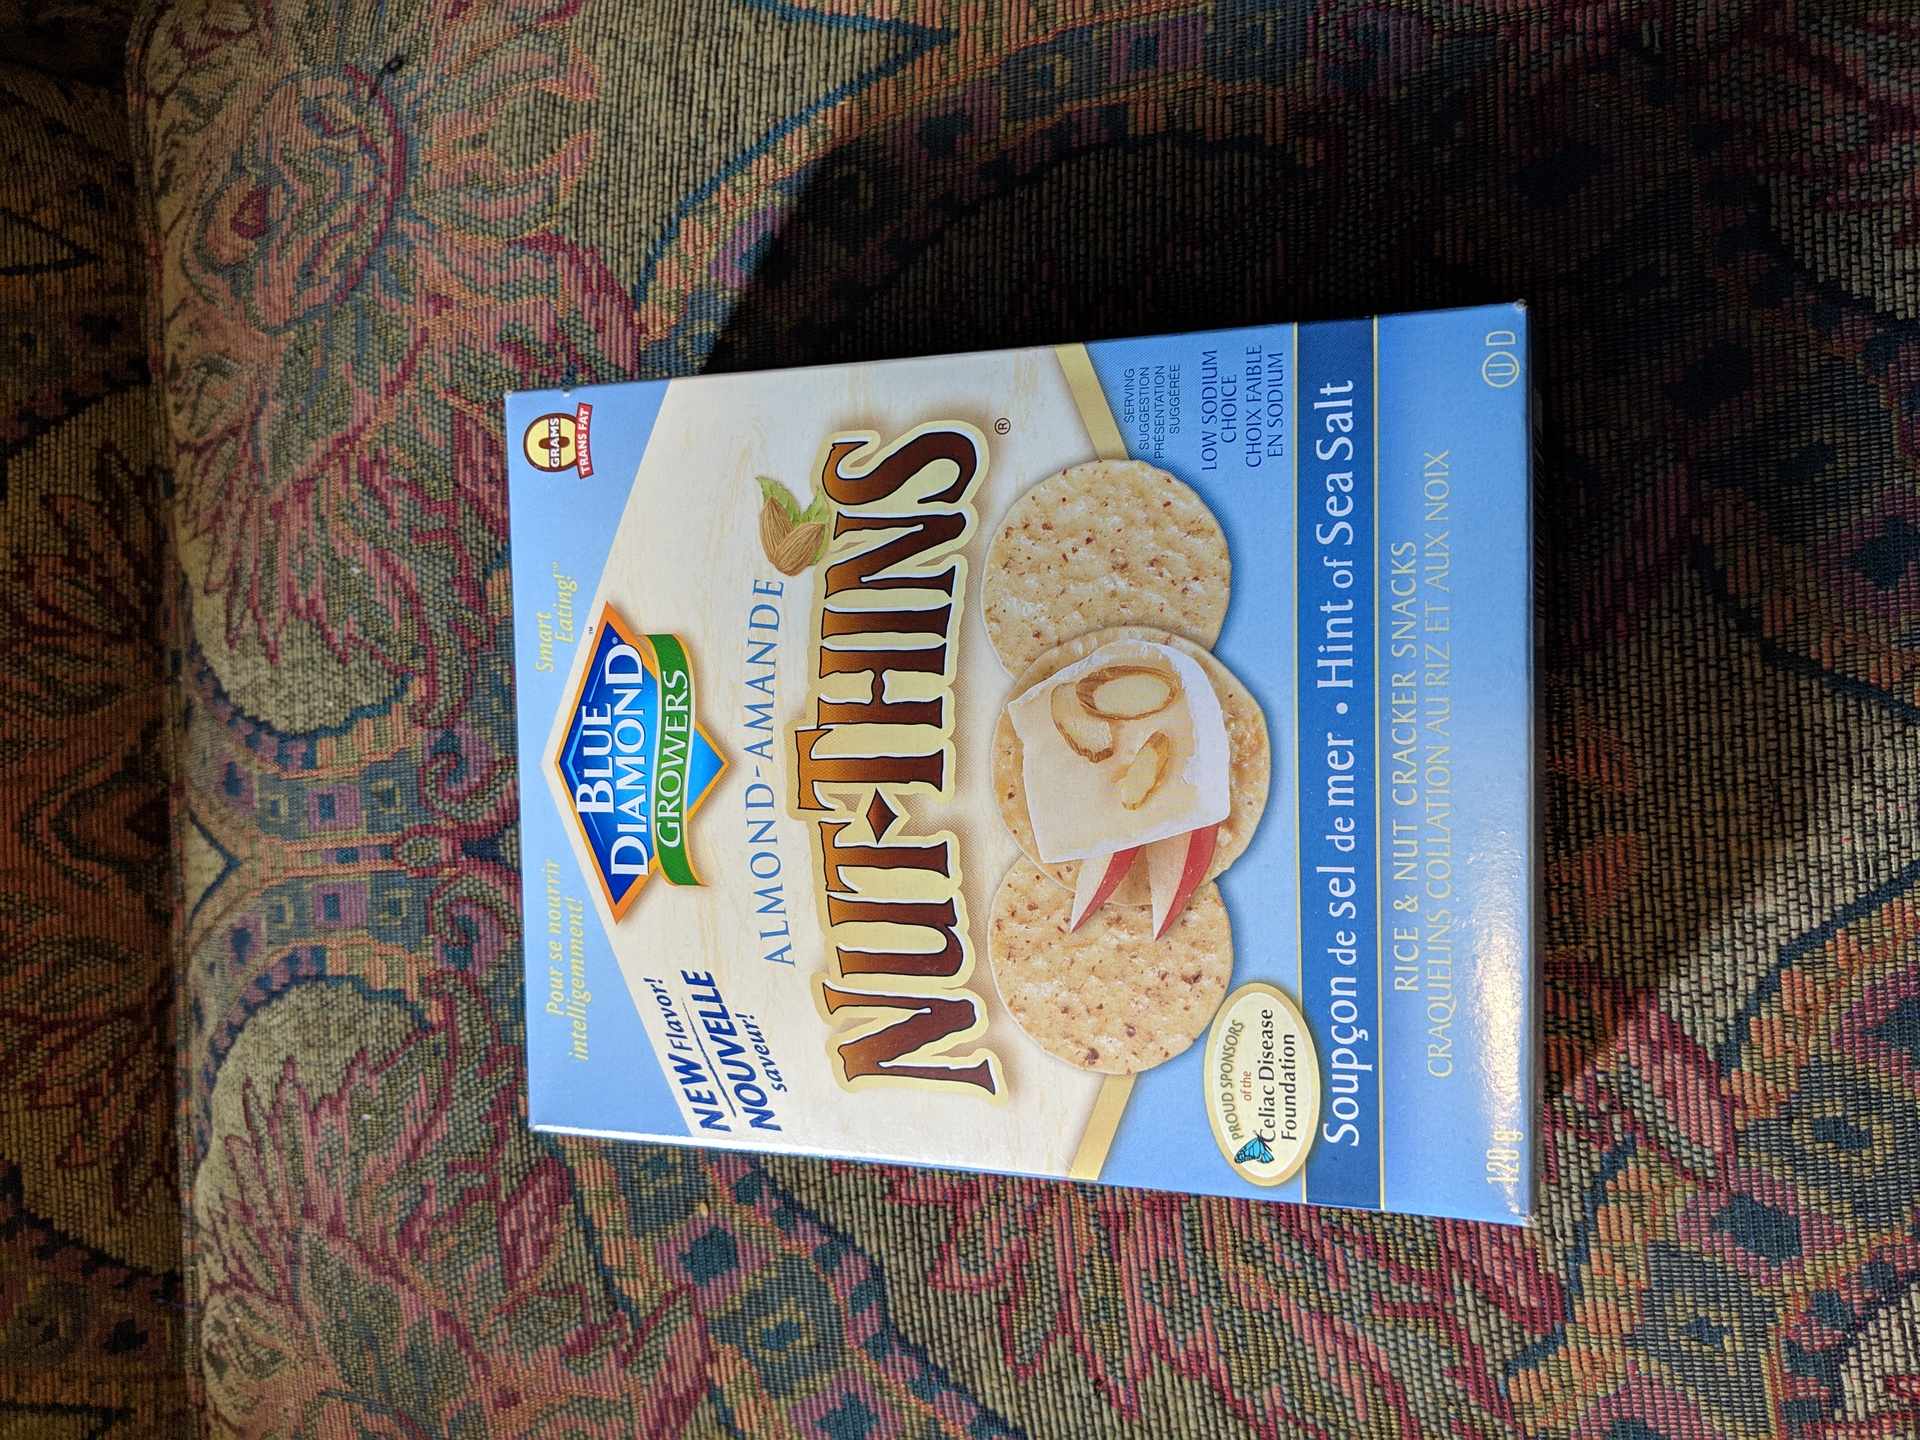blue_diamond_nut_thins_almond_seasalt: (526, 299, 1544, 1212)
